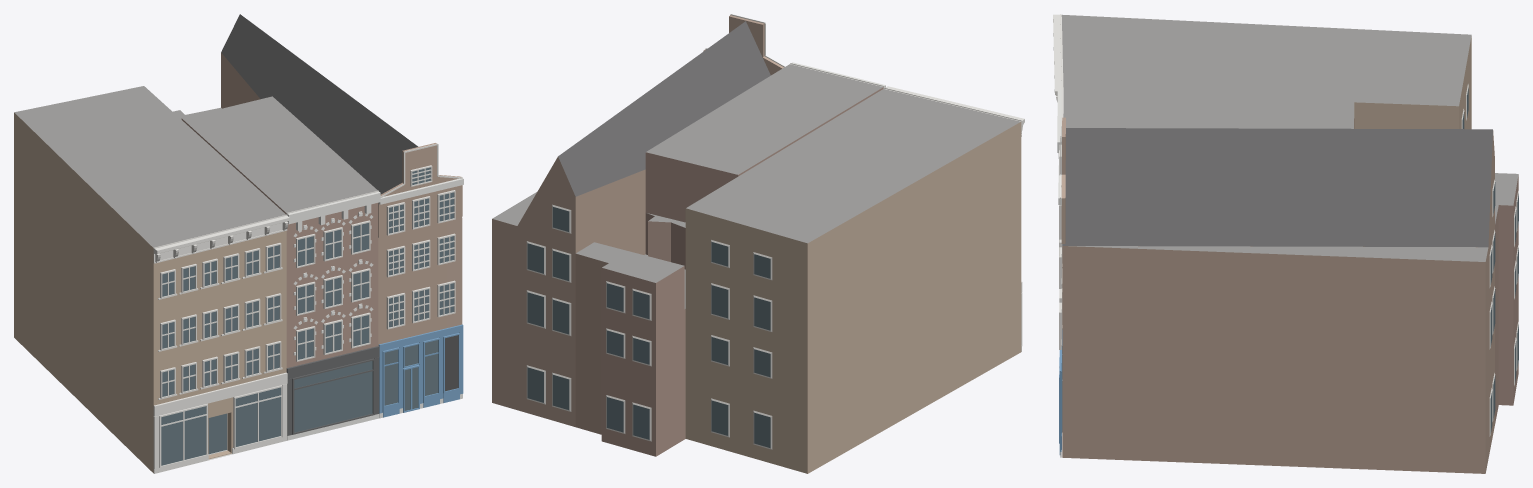
File: chunk-face-kalver-195-199.glb
The picture shows the model from 3 angles, left to right: view 1: azimuth 30°, elevation 25°; view 2: azimuth 150°, elevation 25°; view 3: azimuth 270°, elevation 25°; orthographic projection. The views are drawn at different scales.
Parts seen in each view (by area): view 1: face-kalver-195-199; view 2: face-kalver-195-199; view 3: face-kalver-195-199.
Boxes of the visible parts, left/top/right/bottom form: face-kalver-195-199: left=14, top=14, right=463, bottom=473; face-kalver-195-199: left=492, top=14, right=1024, bottom=473; face-kalver-195-199: left=1053, top=14, right=1518, bottom=473.
Bounding box in the file's own units: 21.05 × 15.56 × 21.38.
